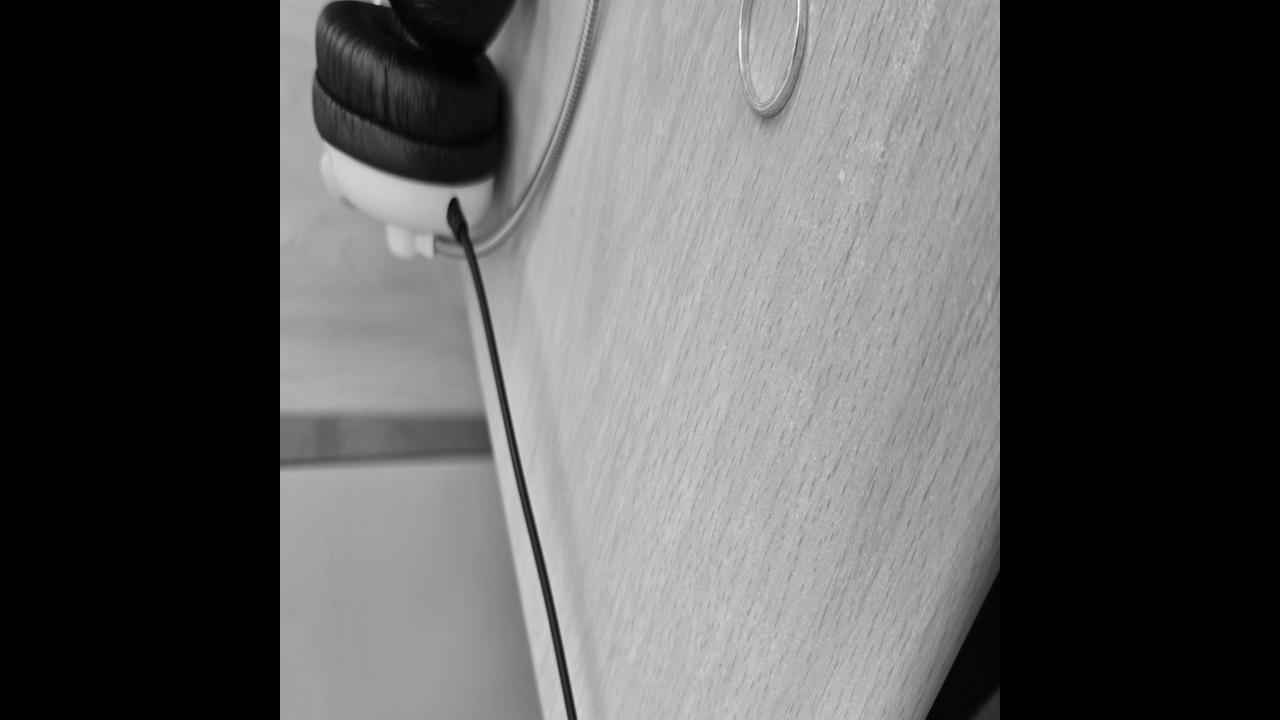ring: (737, 0, 809, 116)
